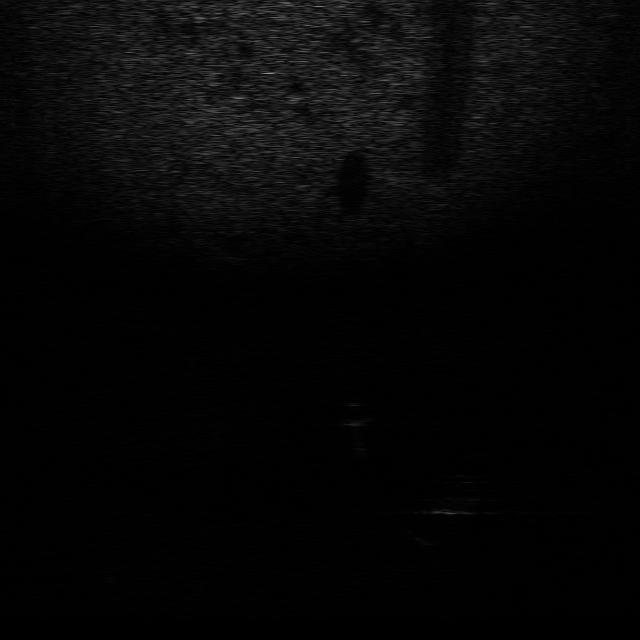ball: (334, 400, 378, 428)
metal bucket: (401, 526, 445, 549)
tyre: (426, 472, 485, 518)
